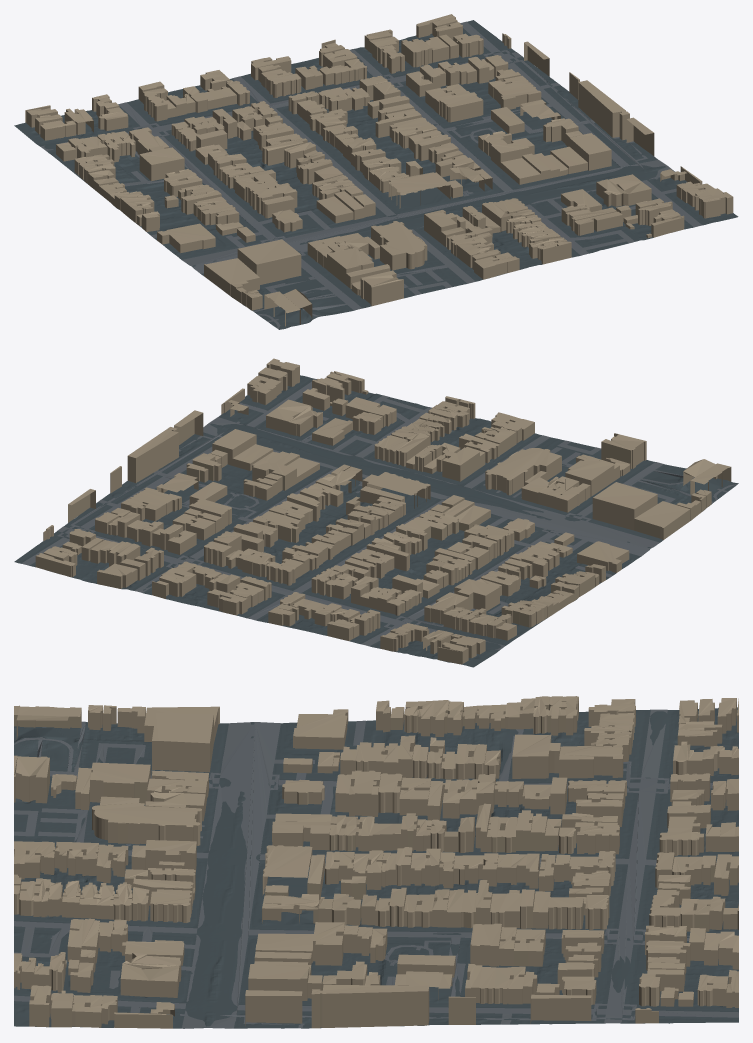
File: epsg26910-1424-10889.lod0.glb
The picture shows the model from 3 angles, top to bottom: view 1: azimuth 30°, elevation 25°; view 2: azimuth 150°, elevation 25°; view 3: azimuth 270°, elevation 25°; orthographic projection. The views are drawn at different scales.
Parts seen in each view (by area): view 1: epsg26910-1424-10889-lod0; view 2: epsg26910-1424-10889-lod0; view 3: epsg26910-1424-10889-lod0.
Part boxes in pixels (<box>): epsg26910-1424-10889-lod0: <box>14,14,738,329</box>; epsg26910-1424-10889-lod0: <box>14,358,738,667</box>; epsg26910-1424-10889-lod0: <box>14,696,738,1028</box>.
Bounding box in the file's own units: 384 × 23.77 × 384.
